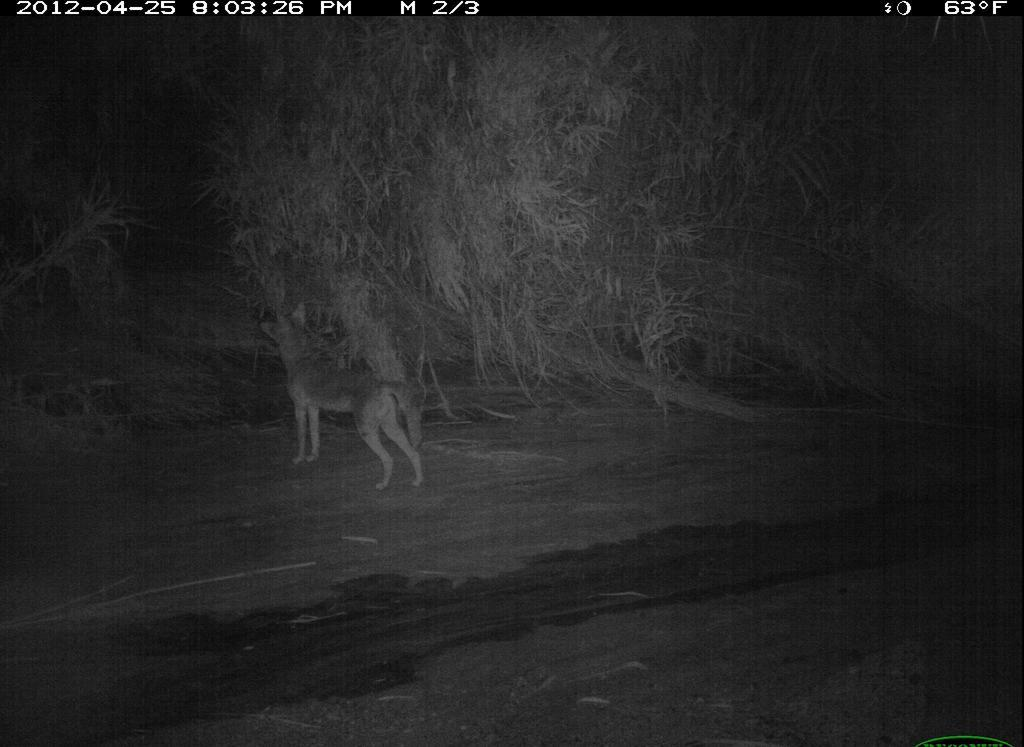coyote: (255, 299, 430, 494)
